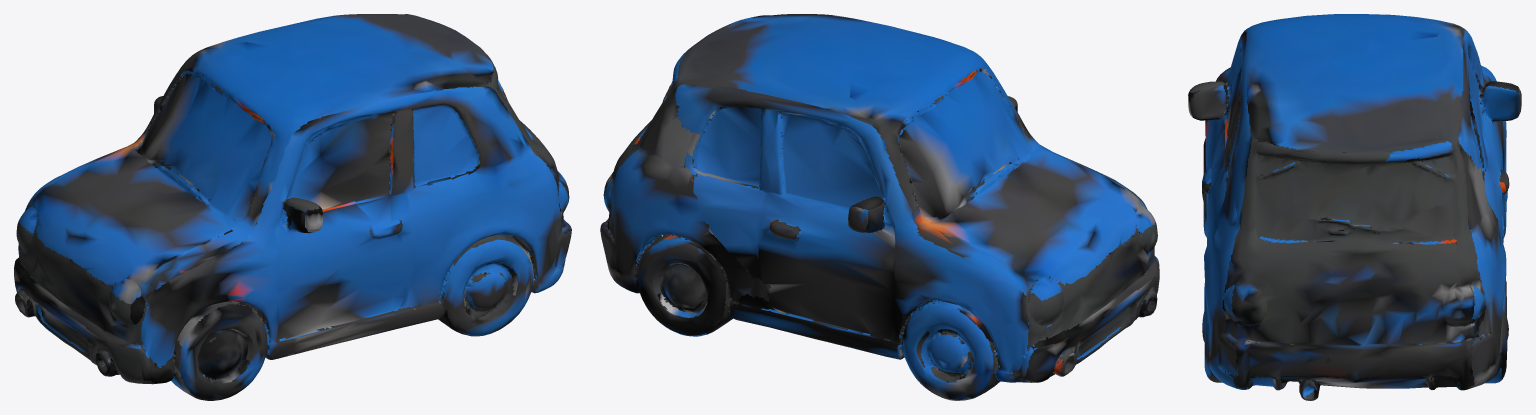
Rendered from Meshy_AI_Blue_Bubble_Car_0807145213_texture.glb.
The picture shows the model from 3 angles, left to right: view 1: azimuth 30°, elevation 25°; view 2: azimuth 150°, elevation 25°; view 3: azimuth 270°, elevation 25°; orthographic projection. The views are drawn at different scales.
Bounding box in the file's own units: 2 × 1.05 × 1.15.
